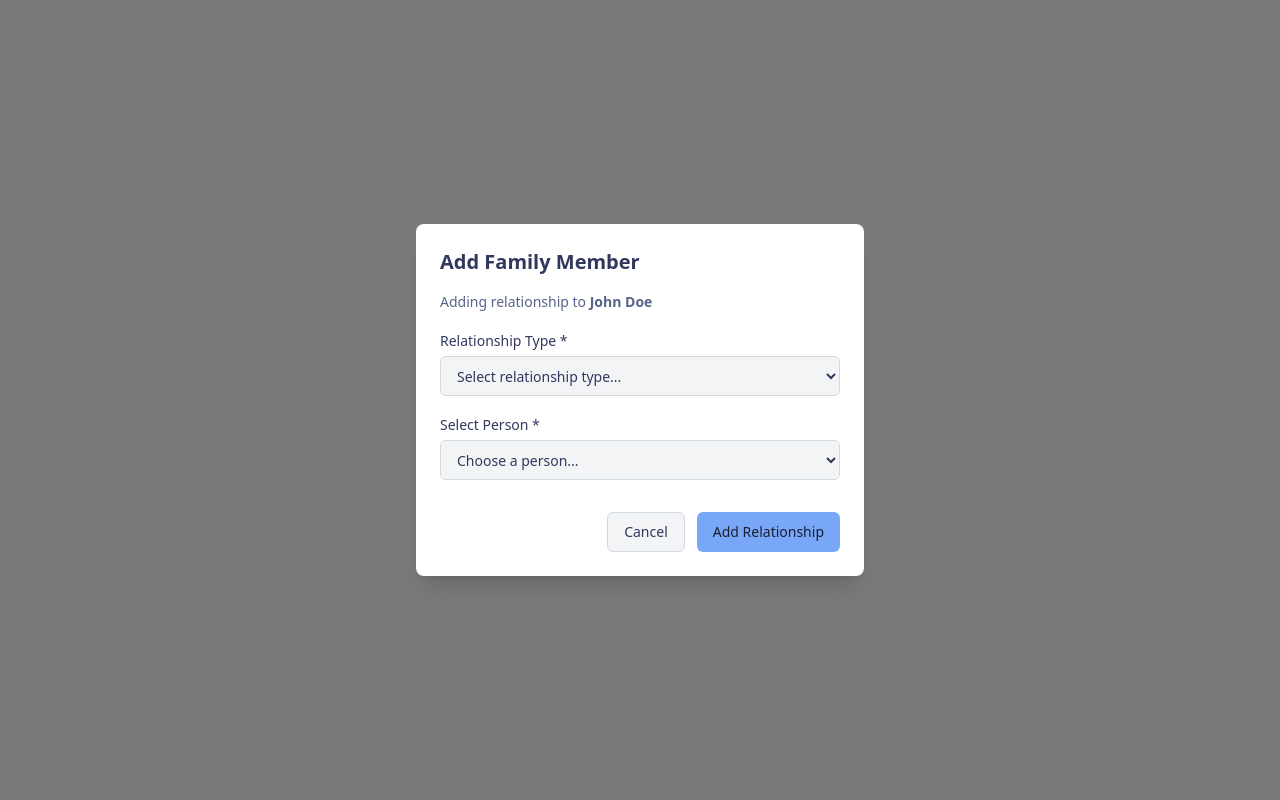
it: RelationshipCreateModal › form submission › should show error message on API failure
Expected: the dropdown labelled "Select Person *" is shown, [440,440,840,480]
Select "Sibling" in the dropdown labelled "Relationship Type *" at (640, 376), box [440,356,840,396]
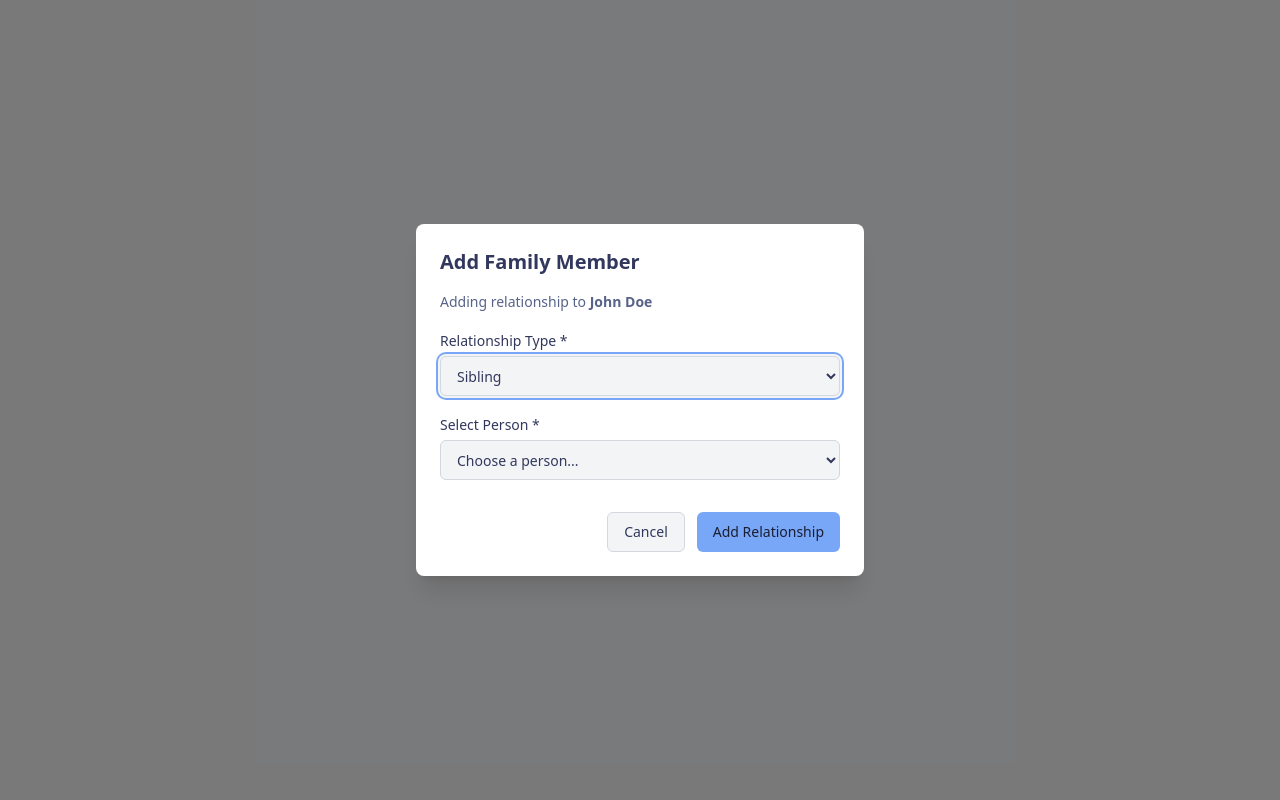
Select "Jane Doe (b. 1955)" in the dropdown labelled "Select Person *" at (640, 460), box [440,440,840,480]
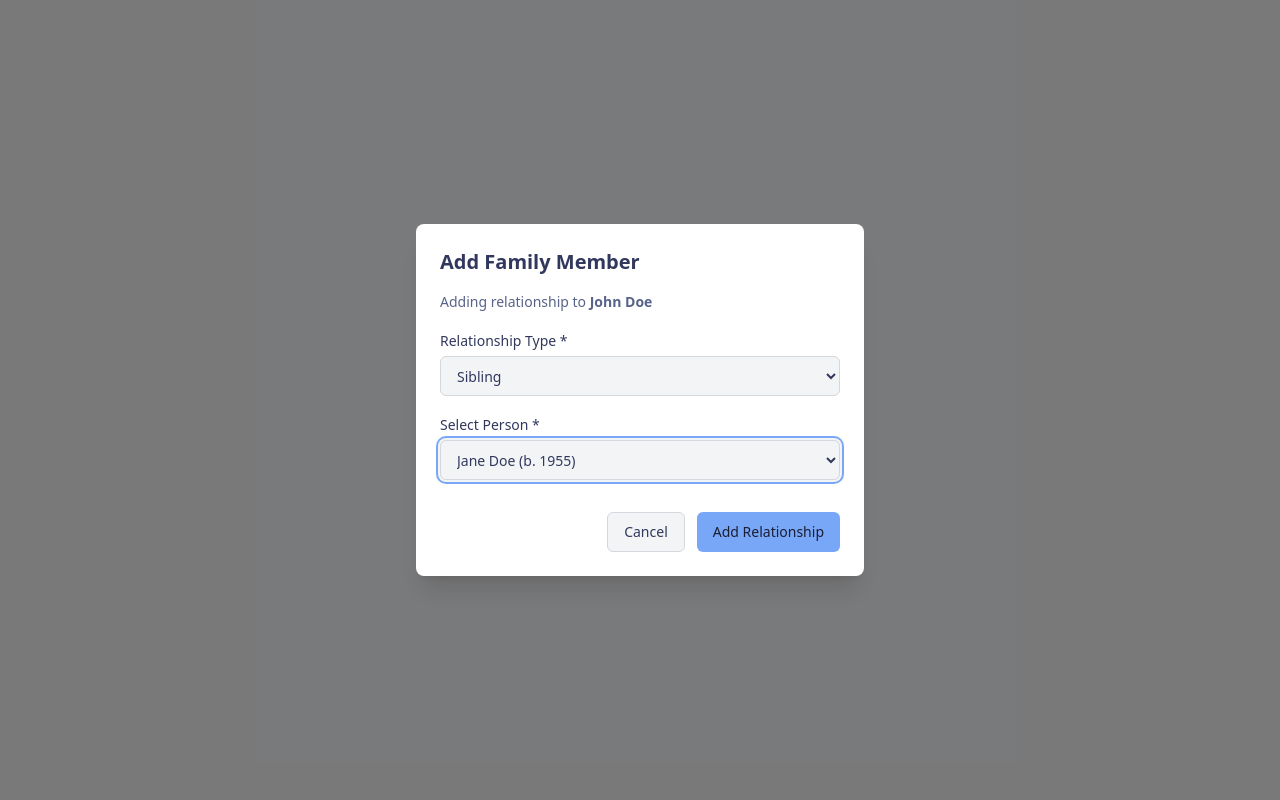
Click the button "Add Relationship".
click(768, 532)  # box [697,512,840,552]
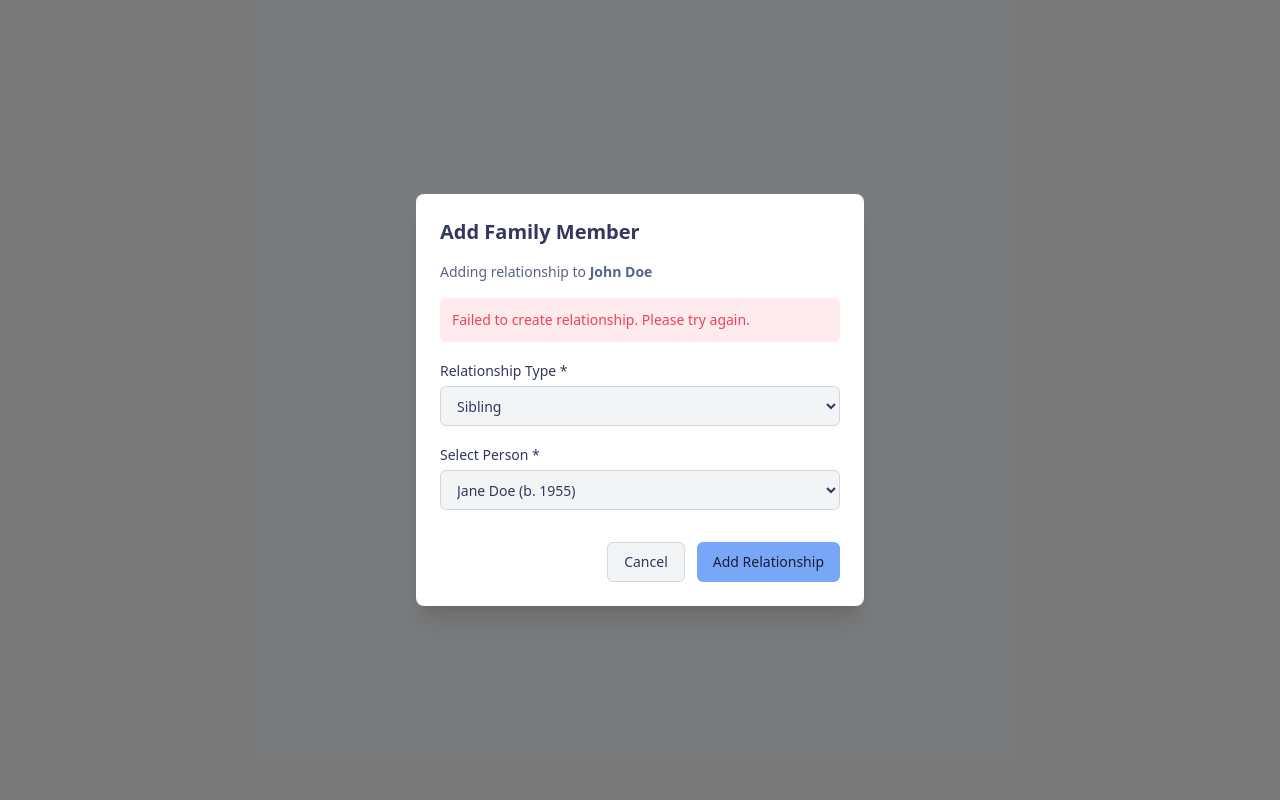
Now the text "Failed to create relationship. Please try again." is shown, box [440,298,840,342]
